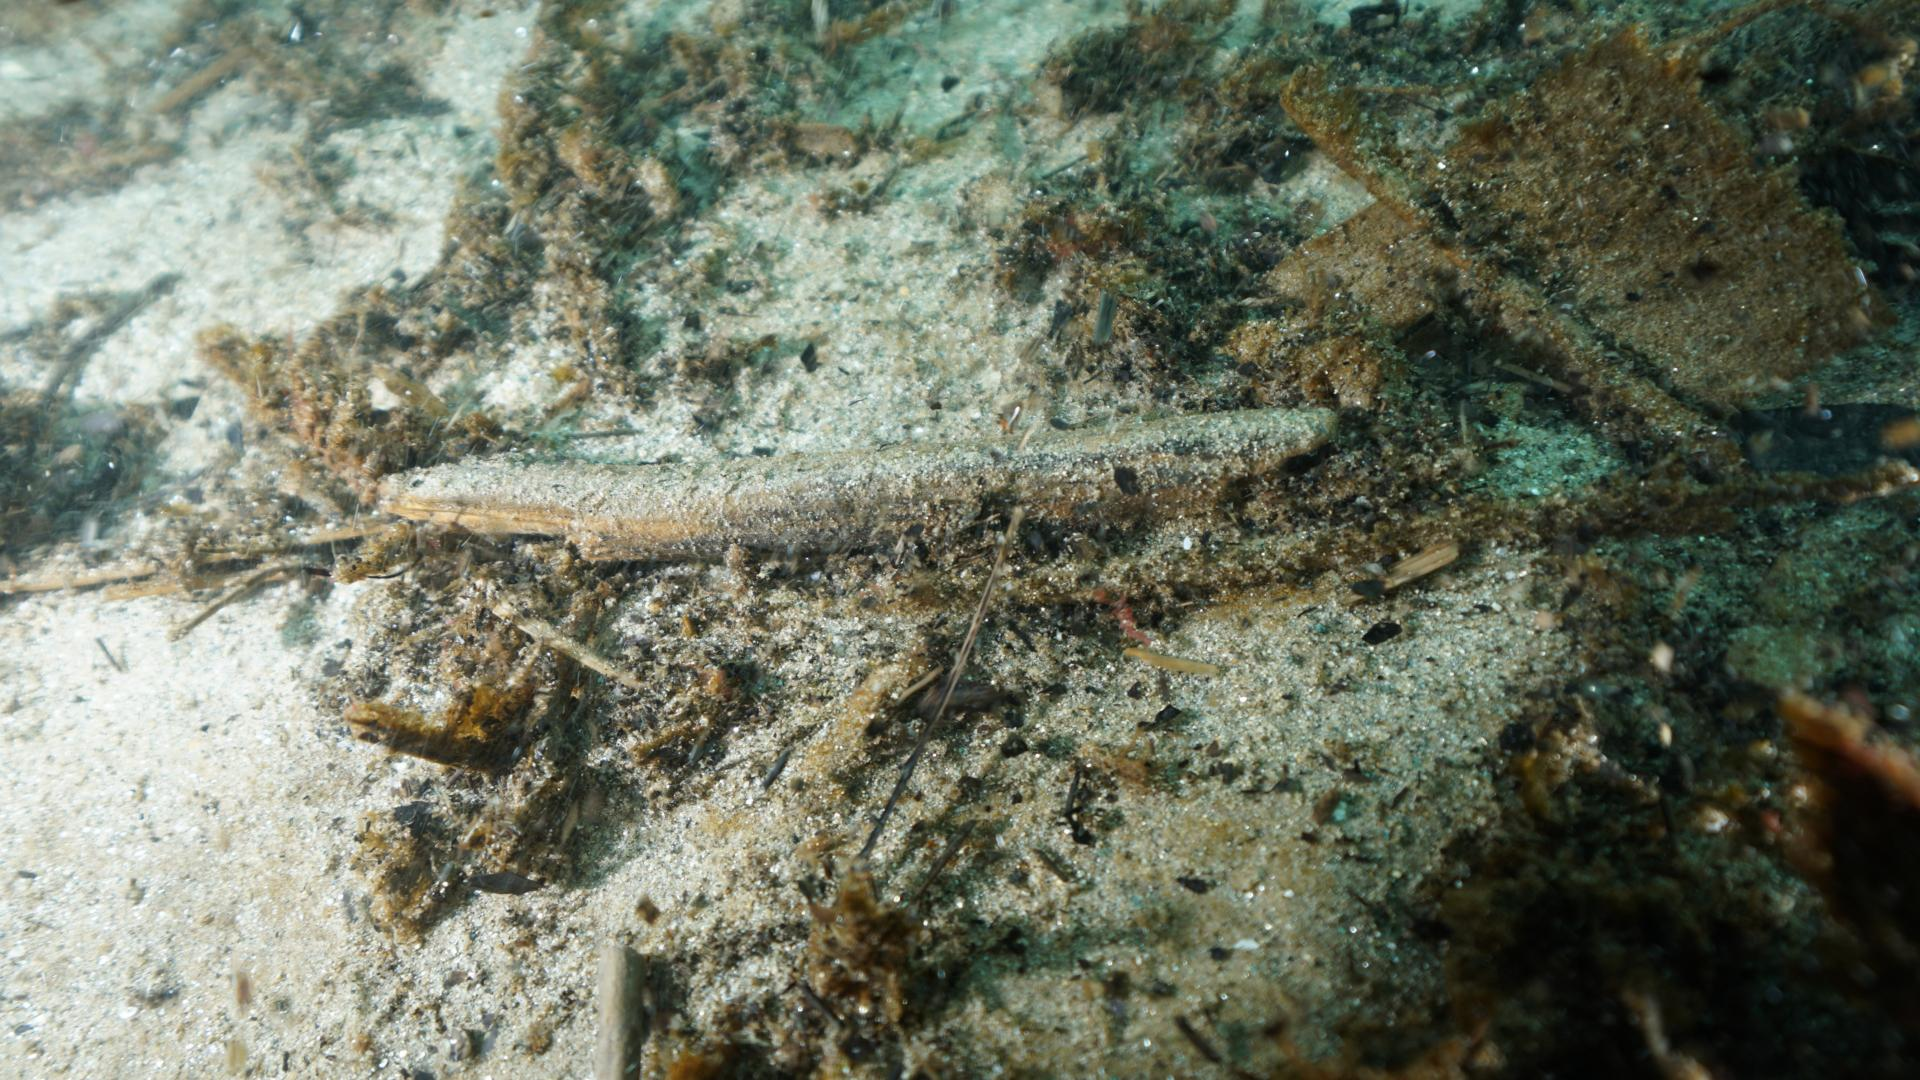wood: (381, 402, 1340, 564)
